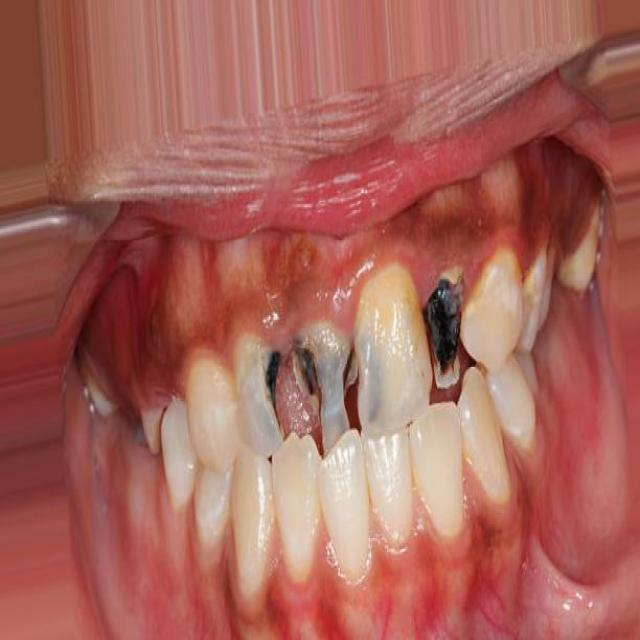caries: (293, 318, 355, 450), (418, 260, 470, 399), (238, 330, 292, 456), (351, 326, 387, 435)
